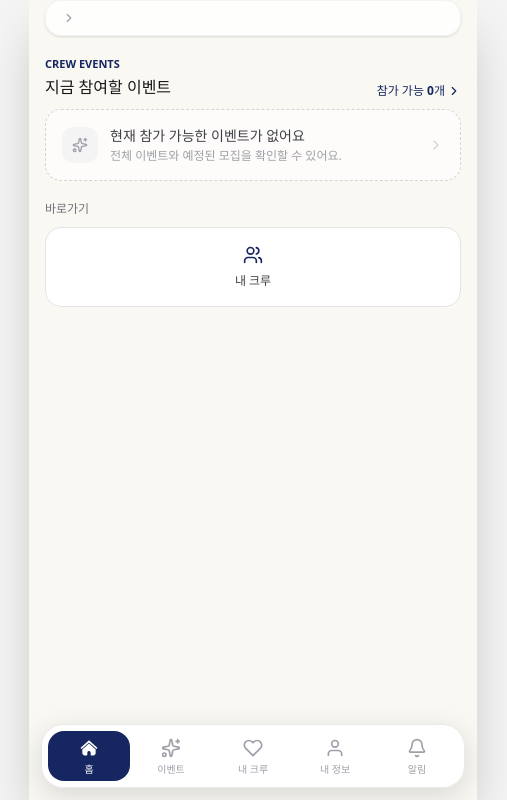
Test case: real App management navigation with synthetic HTTP › keeps real Home and event-list opening counts aligned at 2026-10-25T08:59:59Z
Click the button "이벤트": (171, 756) top-left (130, 731), bottom-right (212, 781)
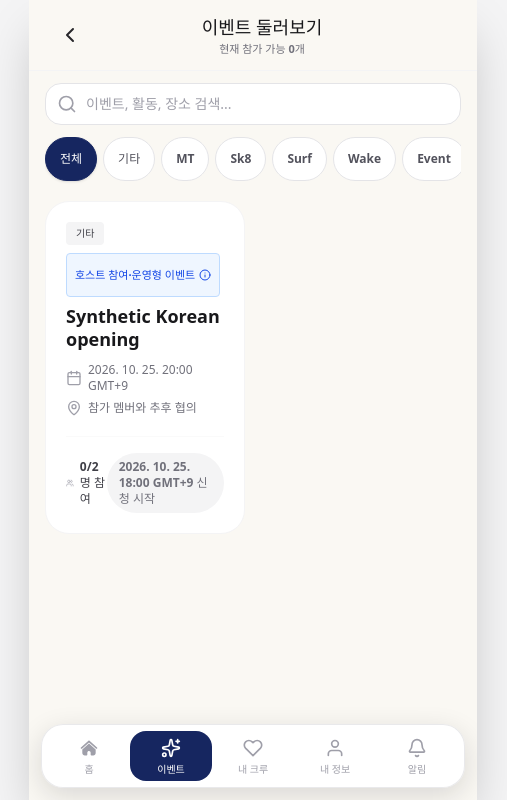
Now the text "20:00" is shown, box top-left (88, 361), bottom-right (193, 394)
Now the text "GMT+9" is shown, box top-left (88, 361), bottom-right (193, 394)
